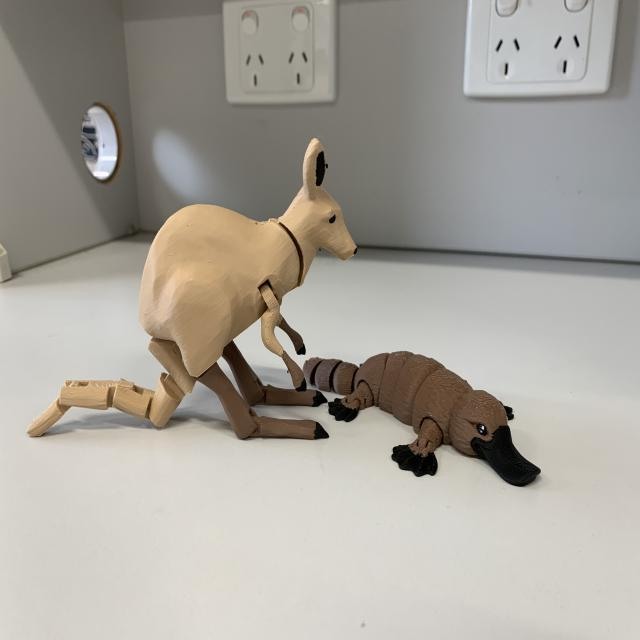kangaroo: (9, 130, 358, 460)
platypus: (312, 343, 524, 497)
